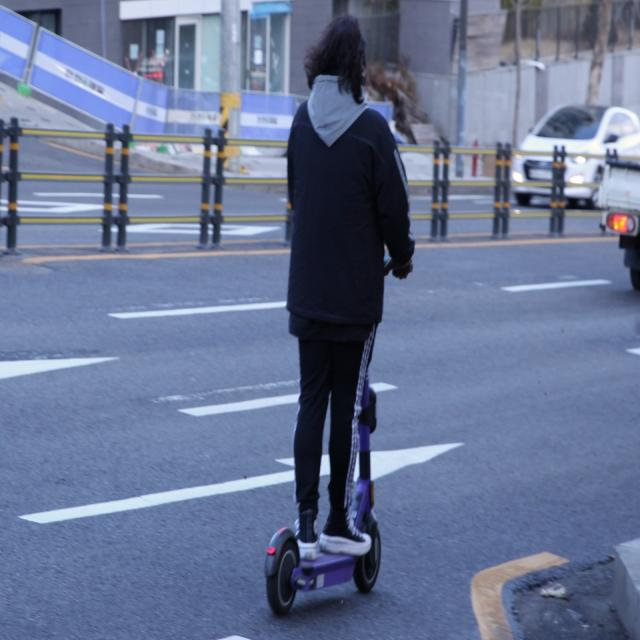non-helmet: (256, 11, 420, 612)
